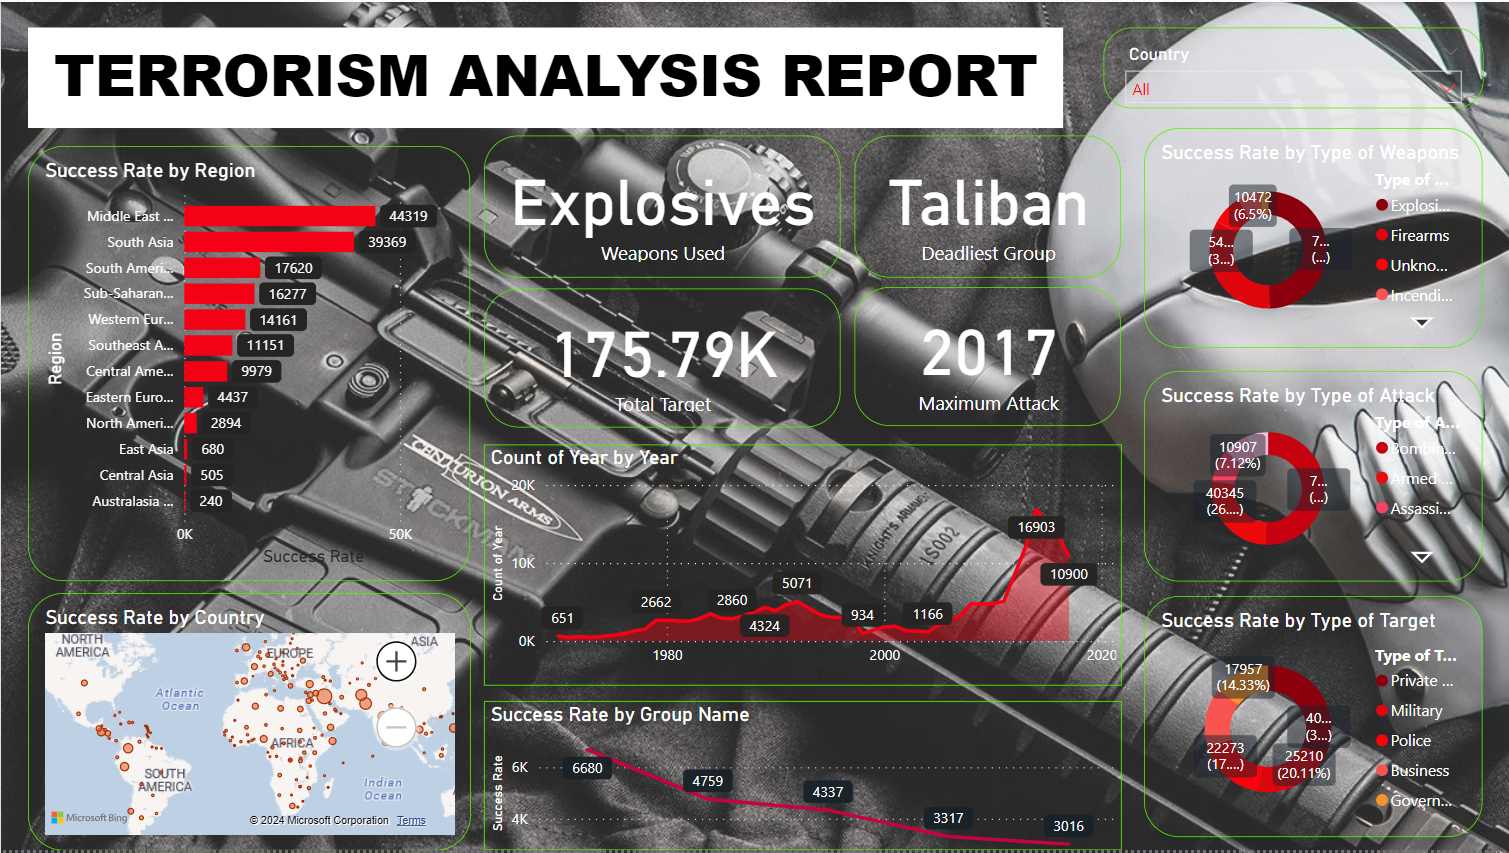

Layout of this report page (visuals, bound fields, positions):
{"tool":"powerbi","page":{"name":"Page 1","canvas":[1280,720],"ordinal":0},"visuals":[{"type":"donutChart","fields":{"Y":["Sum(globalterrorismdb_0718dist.Success Rate)"],"Category":["globalterrorismdb_0718dist.Type of Attack"]},"box":[970.7,313.4,287.4,178.9],"z":0},{"type":"donutChart","fields":{"Category":["globalterrorismdb_0718dist.Type of Target"],"Y":["Sum(globalterrorismdb_0718dist.Success Rate)"]},"box":[970.7,504.5,287.4,204.8],"z":1},{"type":"donutChart","fields":{"Category":["globalterrorismdb_0718dist.Type of Weapons"],"Y":["Sum(globalterrorismdb_0718dist.Success Rate)"]},"box":[970.7,107,287.4,186.5],"z":2},{"type":"map","fields":{"Category":["globalterrorismdb_0718dist.Country"],"Size":["Sum(globalterrorismdb_0718dist.Success Rate)"]},"box":[22.9,501.4,376.1,218.6],"z":3},{"type":"barChart","fields":{"Category":["globalterrorismdb_0718dist.Region"],"Y":["Sum(globalterrorismdb_0718dist.Success Rate)"]},"box":[22.9,122.2,375.6,369.2],"z":4},{"type":"lineChart","fields":{"Y":["Sum(globalterrorismdb_0718dist.Success Rate)"],"Category":["globalterrorismdb_0718dist.Group Name"]},"box":[409.7,593.1,541.1,126.9],"z":5},{"type":"areaChart","fields":{"Category":["globalterrorismdb_0718dist.Year"],"Y":["CountNonNull(globalterrorismdb_0718dist.Year)"]},"box":[409.7,376.1,541.1,204.8],"z":6},{"type":"slicer","fields":{"Values":["globalterrorismdb_0718dist.Country"]},"box":[935.5,21.4,322.5,68.8],"z":7},{"type":"card","fields":{"Values":["Min(globalterrorismdb_0718dist.Group Name)"]},"box":[724.6,113.1,226.2,120.8],"z":8},{"type":"card","fields":{"Values":["CountNonNull(globalterrorismdb_0718dist.Type of Target)"]},"box":[409.7,243.1,302.7,117.7],"z":9},{"type":"card","fields":{"Values":["Max(globalterrorismdb_0718dist.Year)"]},"box":[724.6,241.5,226.2,117.7],"z":10},{"type":"card","fields":{"Values":["Min(globalterrorismdb_0718dist.Type of Weapons)"]},"box":[409.7,113.1,302.7,120.8],"z":11},{"type":"textbox","box":[22.9,21.4,879,85.6],"z":12}]}

Visuals, with their boxes in screenshot pixels (x1, y1, x2, y2), scaled from the page's 1280x720 canvas onto the 1509x853 screenshot:
donutChart - Sum(globalterrorismdb_0718dist.Success Rate) x globalterrorismdb_0718dist.Type of Attack: detection(1144, 371, 1483, 583)
donutChart - globalterrorismdb_0718dist.Type of Target x Sum(globalterrorismdb_0718dist.Success Rate): detection(1144, 598, 1483, 840)
donutChart - globalterrorismdb_0718dist.Type of Weapons x Sum(globalterrorismdb_0718dist.Success Rate): detection(1144, 127, 1483, 348)
map - globalterrorismdb_0718dist.Country x Sum(globalterrorismdb_0718dist.Success Rate): detection(27, 594, 470, 852)
barChart - globalterrorismdb_0718dist.Region x Sum(globalterrorismdb_0718dist.Success Rate): detection(27, 145, 470, 582)
lineChart - Sum(globalterrorismdb_0718dist.Success Rate) x globalterrorismdb_0718dist.Group Name: detection(483, 703, 1121, 852)
areaChart - globalterrorismdb_0718dist.Year x CountNonNull(globalterrorismdb_0718dist.Year): detection(483, 446, 1121, 688)
slicer - globalterrorismdb_0718dist.Country: detection(1103, 25, 1483, 107)
card - Min(globalterrorismdb_0718dist.Group Name): detection(854, 134, 1121, 277)
card - CountNonNull(globalterrorismdb_0718dist.Type of Target): detection(483, 288, 840, 427)
card - Max(globalterrorismdb_0718dist.Year): detection(854, 286, 1121, 426)
card - Min(globalterrorismdb_0718dist.Type of Weapons): detection(483, 134, 840, 277)
textbox: detection(27, 25, 1063, 127)
